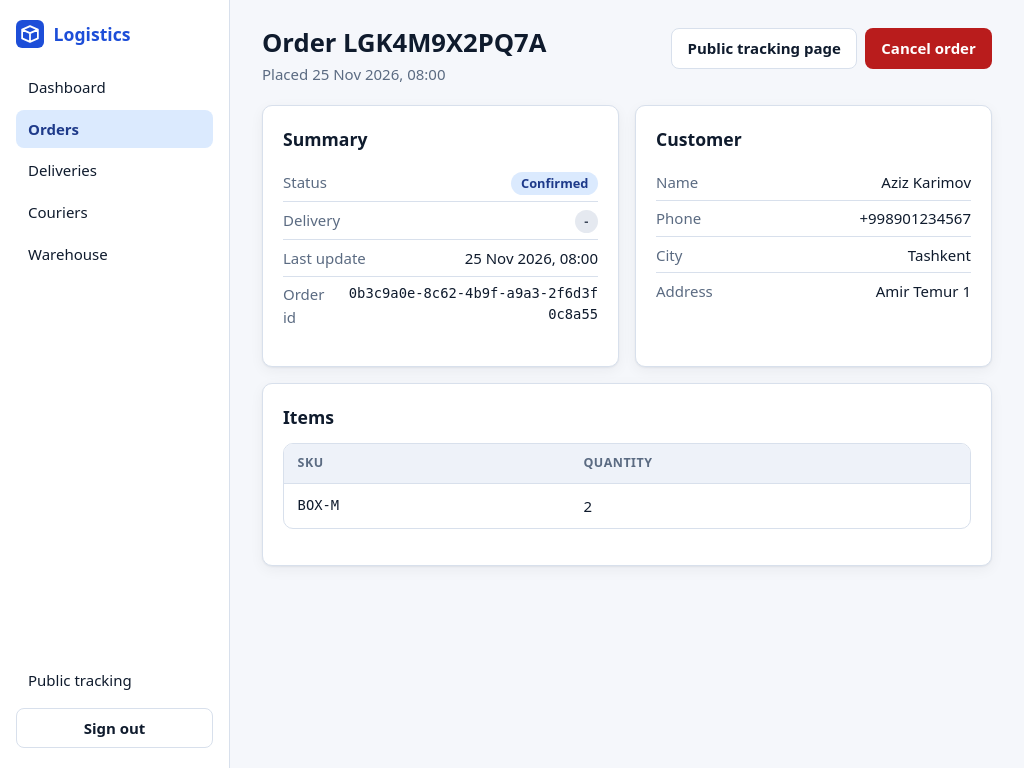
Scenario: order detail › can back out of a cancellation
Click the button "Cancel order".
click(929, 48)  # box [865,28,992,68]
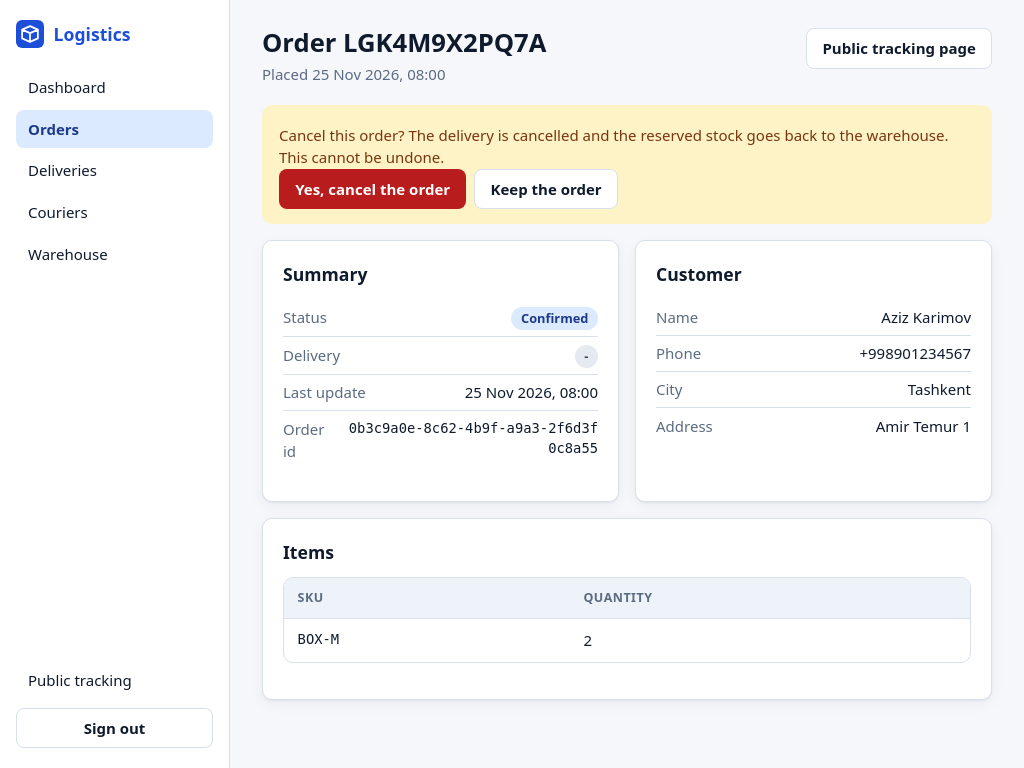
Click the button "Keep the order".
click(546, 189)  # box [474,169,618,209]
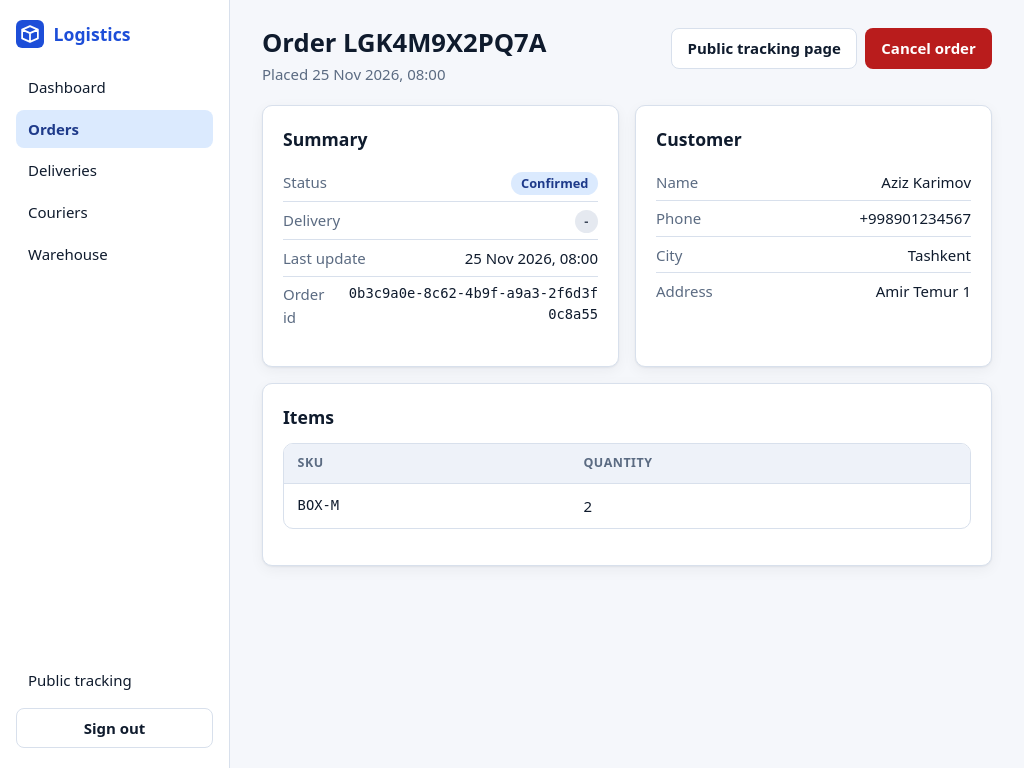
Expected: the dialog is gone
